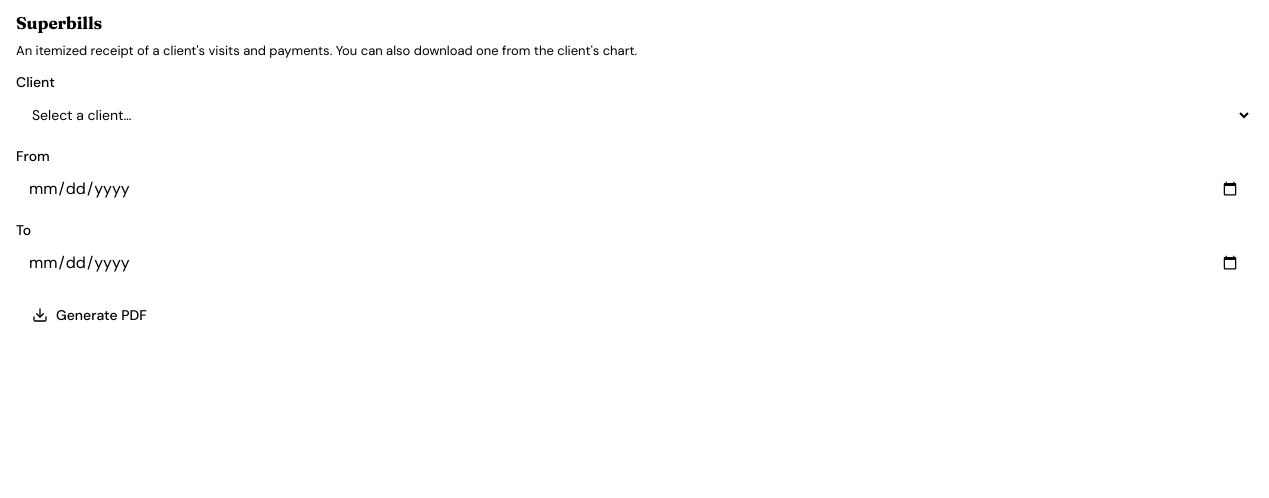
Test: SuperbillsPage › shows every finding of a refusal as a sentence
Select "Anon, John" in the dropdown labelled "Client": (634, 115) x1=16 y1=97 x2=1252 y2=133
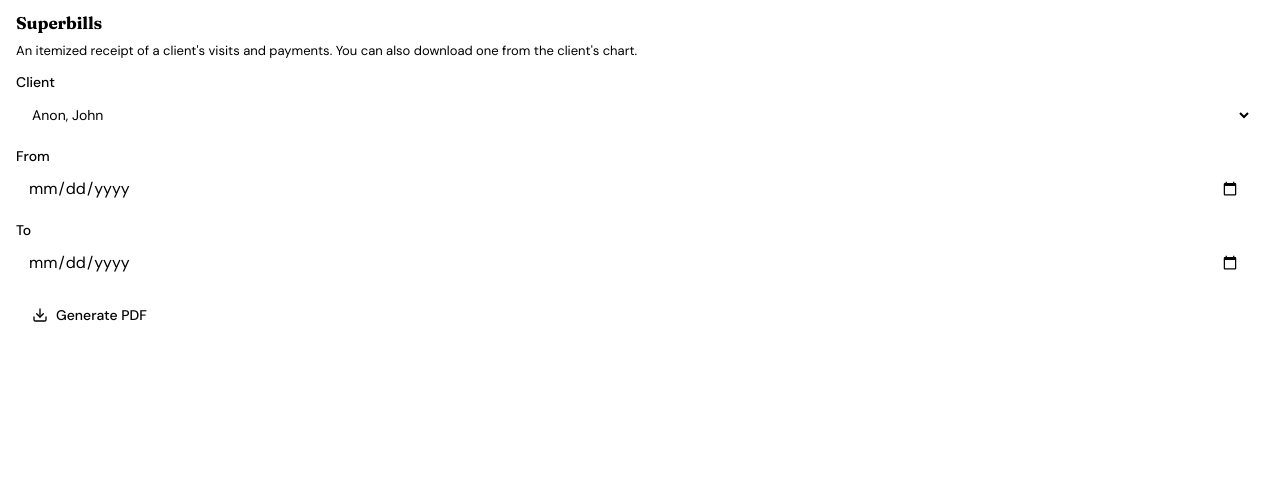
In the date field labelled "From": (634, 189) x1=16 y1=171 x2=1252 y2=207, type "2026-09-01"
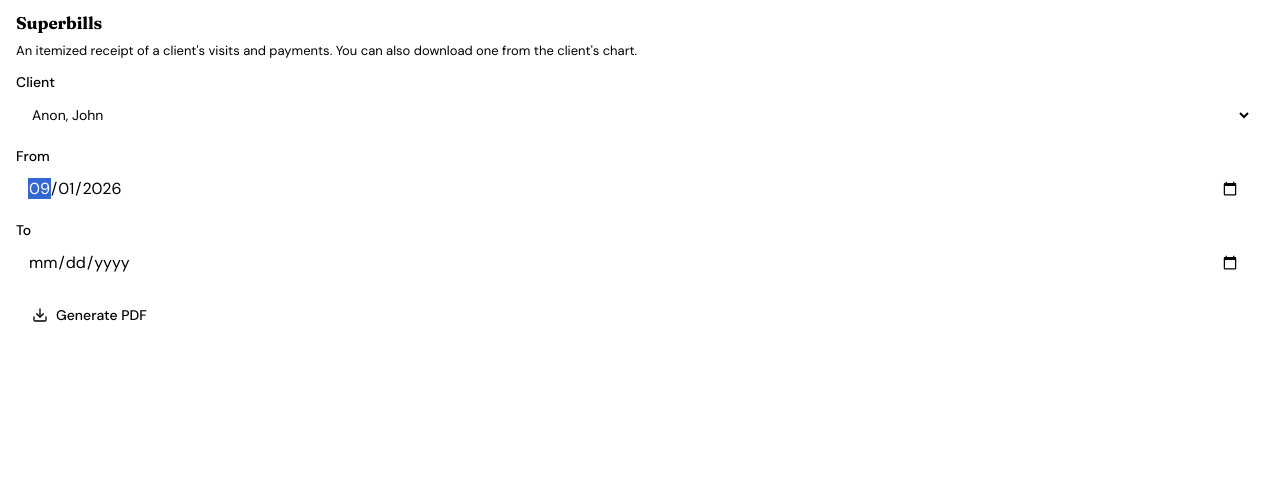
In the date field labelled "To": (634, 263) x1=16 y1=245 x2=1252 y2=281, type "2026-09-30"
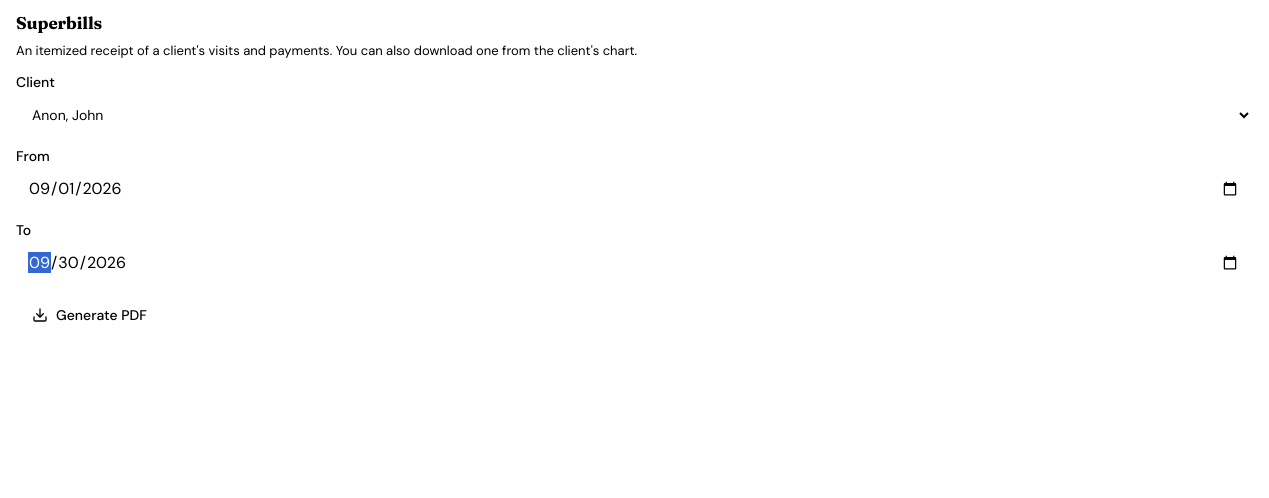
Click the button "Generate PDF": click(89, 315) x1=16 y1=297 x2=163 y2=333
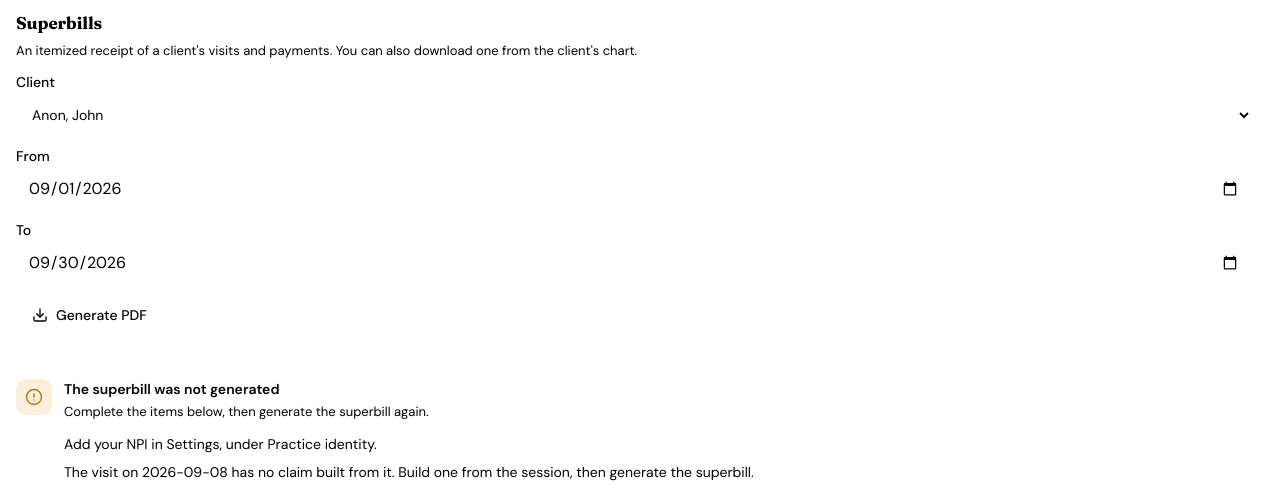
Expected: the text "The superbill was not generated" is shown, x1=64 y1=380 x2=279 y2=398
Expected: the number of list items is 2, x1=64 y1=435 x2=377 y2=453; x1=64 y1=463 x2=754 y2=481
Expected: the list item "Add your NPI in Settings, under Practice identity." is shown, x1=64 y1=435 x2=377 y2=453
